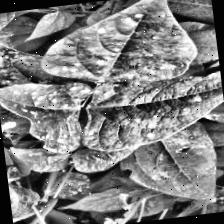Bean Rust: (34, 0, 193, 95), (88, 67, 224, 153), (0, 78, 84, 156), (0, 19, 71, 90)
